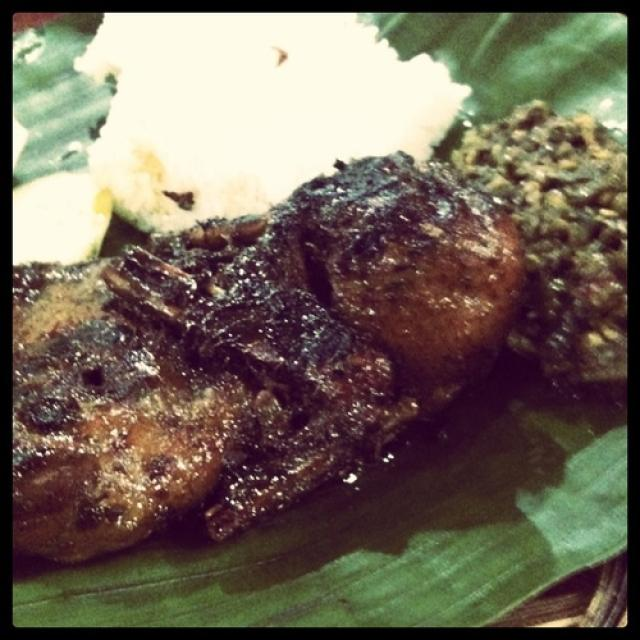鸡肉料理 含炸鸡: (26, 26, 626, 592)
